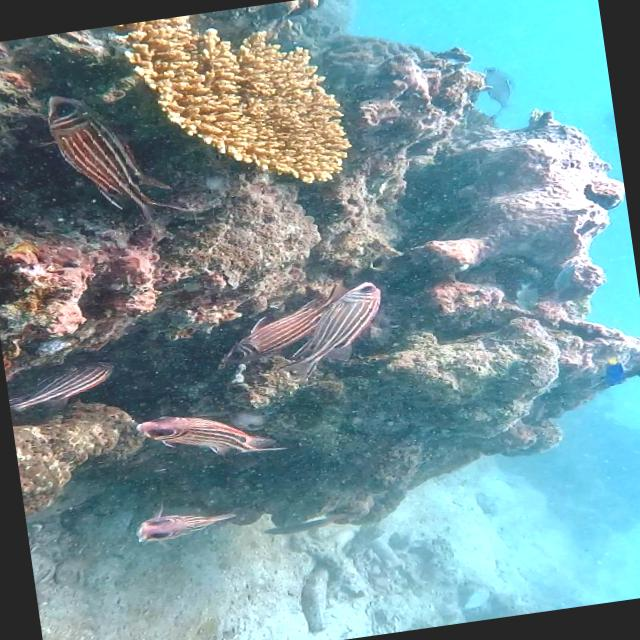Asker Baligi: (208, 276, 394, 395), (32, 86, 163, 240), (133, 399, 290, 472), (123, 497, 233, 551)
